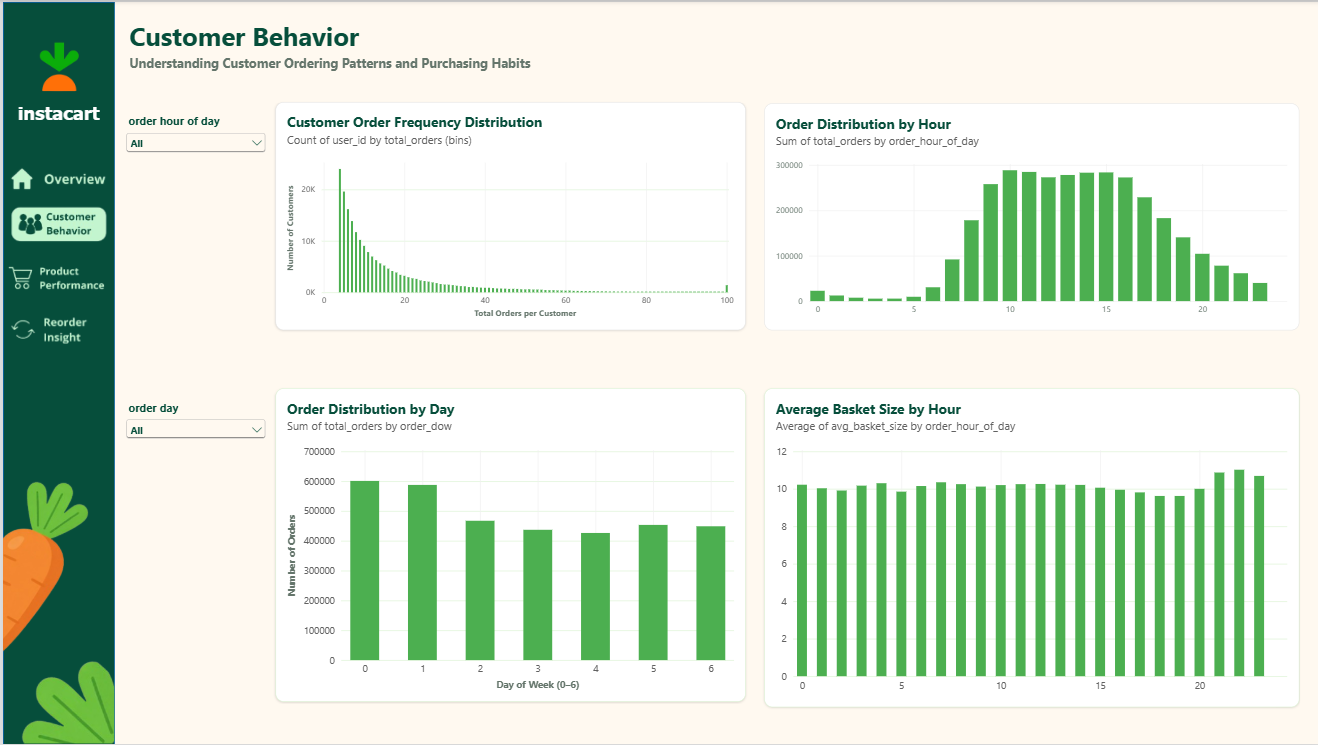

What the dashboard file says about the page in this screenshot:
{"tool":"powerbi","page":{"name":"Customer Behavior","canvas":[1920,1080],"ordinal":1},"visuals":[{"type":"shape","box":[0,0,162.5,1082.5],"z":0},{"type":"image","box":[45,56.2,72.5,76.2],"z":1000},{"type":"textbox","box":[22,146,120,150],"z":2000},{"type":"image","box":[0,578,162,502],"z":3000},{"type":"image","box":[22,954,140,126],"z":4000},{"type":"textbox","box":[184,24,698,70],"z":5000},{"type":"textbox","box":[184,76,614,38],"z":6000},{"type":"clusteredColumnChart","title":"Customer Order Frequency Distribution","fields":{"Category":["Customer Frequency.total_orders (bins)"],"Y":["CountNonNull(Customer Frequency.user_id)"]},"box":[396,146,684,332],"z":7000},{"type":"clusteredColumnChart","title":"Order Distribution by Hour","fields":{"Category":["Orders by Hour.order_hour_of_day"],"Y":["Sum(Orders by Hour.total_orders)"]},"box":[1108,148,778,330],"z":8000},{"type":"clusteredColumnChart","title":"Order Distribution by Day","fields":{"Category":["Orders by Day.order_dow"],"Y":["Sum(Orders by Day.total_orders)"]},"box":[396,562,684,456],"z":9000},{"type":"clusteredColumnChart","title":"Average Basket Size by Hour","fields":{"Category":["Basket by Hour.order_hour_of_day"],"Y":["Avg(Basket by Hour.avg_basket_size)"]},"box":[1108,562,778,464],"z":10000},{"type":"slicer","fields":{"Values":["Orders by Hour.order_hour_of_day"]},"box":[175,161.7,212.5,58.8],"z":11000},{"type":"slicer","fields":{"Values":["Orders by Day.order_dow"]},"box":[175,578.3,212.5,58.8],"z":12000},{"type":"image","box":[10.8,230,141.7,65.8],"z":13000},{"type":"image","box":[10,296,140.8,54.2],"z":14000},{"type":"image","box":[8,368,142.2,65.6],"z":15000},{"type":"image","box":[11.1,453.3,114.4,48.9],"z":16000}]}

Visuals, with their boxes on the page's 1920x1080 design canvas (x1, y1, x2, y2). These are canvas units, not pixel positions in the 1318x745 screenshot, which may show the page scaled, cropped or inside an application window:
shape: (left=0, top=0, right=162, bottom=1082)
image: (left=45, top=56, right=118, bottom=132)
textbox: (left=22, top=146, right=142, bottom=296)
image: (left=0, top=578, right=162, bottom=1080)
image: (left=22, top=954, right=162, bottom=1080)
textbox: (left=184, top=24, right=882, bottom=94)
textbox: (left=184, top=76, right=798, bottom=114)
"Customer Order Frequency Distribution" clusteredColumnChart: (left=396, top=146, right=1080, bottom=478)
"Order Distribution by Hour" clusteredColumnChart: (left=1108, top=148, right=1886, bottom=478)
"Order Distribution by Day" clusteredColumnChart: (left=396, top=562, right=1080, bottom=1018)
"Average Basket Size by Hour" clusteredColumnChart: (left=1108, top=562, right=1886, bottom=1026)
slicer - Orders by Hour.order_hour_of_day: (left=175, top=162, right=388, bottom=220)
slicer - Orders by Day.order_dow: (left=175, top=578, right=388, bottom=637)
image: (left=11, top=230, right=152, bottom=296)
image: (left=10, top=296, right=151, bottom=350)
image: (left=8, top=368, right=150, bottom=434)
image: (left=11, top=453, right=126, bottom=502)
